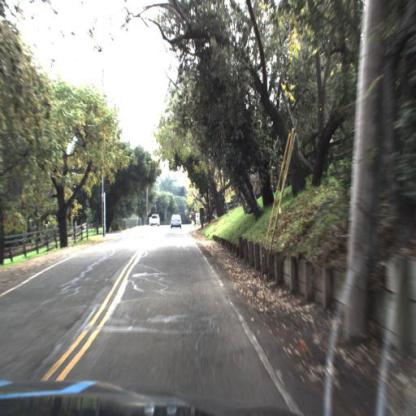car: (148, 209, 165, 234), (169, 210, 186, 233)
